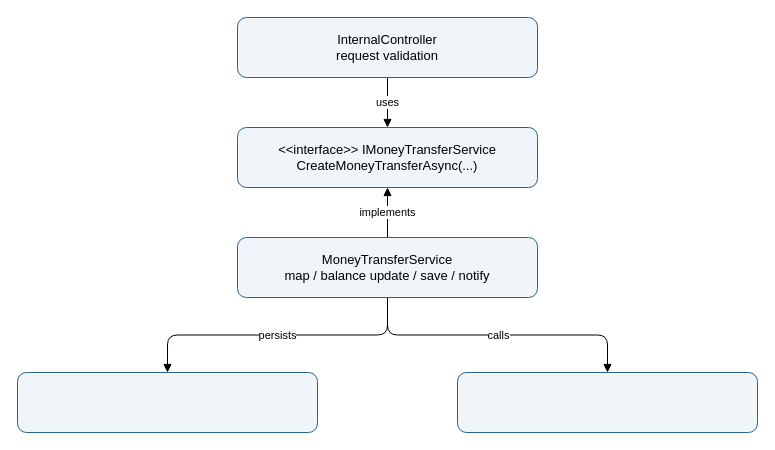
This 775x450 diagram has some shape labels left out. The shapes that lost their labels are listed below. From the top down, each one's box as (x1, y1, x2, y2) in pixels, then its label:
(16, 372, 318, 432): BankSystemDbContext Accounts + Transfers
(456, 372, 758, 432): IEmailSender transport boundary
